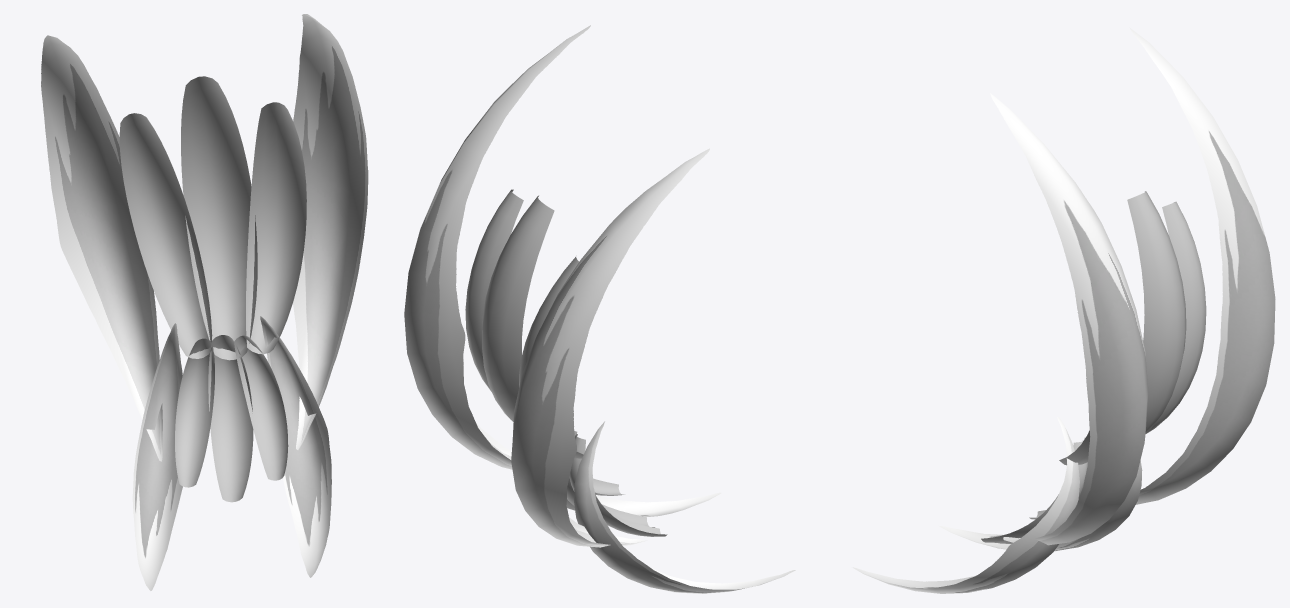
The model's file is fx_m10409_skill01.fbx.
3 renders of one model, left to right at view 1: azimuth 30°, elevation 25°; view 2: azimuth 150°, elevation 25°; view 3: azimuth 270°, elevation 25°, orthographic.
Parts seen in each view (by area): view 1: trail_alpha_out, trail_alpha, trail_bottom_out_alpha, trail_bottom_alpha; view 2: trail_alpha_out, trail_alpha, trail_bottom_out_alpha, trail_bottom_alpha; view 3: trail_alpha_out, trail_alpha, trail_bottom_out_alpha, trail_bottom_alpha.
Part boxes in pixels (<box>): trail_alpha_out: <box>41,14,368,461</box>; trail_alpha: <box>119,76,306,360</box>; trail_bottom_out_alpha: <box>132,316,331,590</box>; trail_bottom_alpha: <box>175,335,288,502</box>; trail_alpha_out: <box>404,25,709,547</box>; trail_alpha: <box>465,189,583,458</box>; trail_bottom_out_alpha: <box>566,421,795,593</box>; trail_bottom_alpha: <box>567,431,667,536</box>; trail_alpha_out: <box>990,27,1275,545</box>; trail_alpha: <box>1059,191,1206,465</box>; trail_bottom_out_alpha: <box>852,417,1142,593</box>; trail_bottom_alpha: <box>981,437,1087,543</box>.
Bounding box in the file's own units: 240 × 360 × 266.
